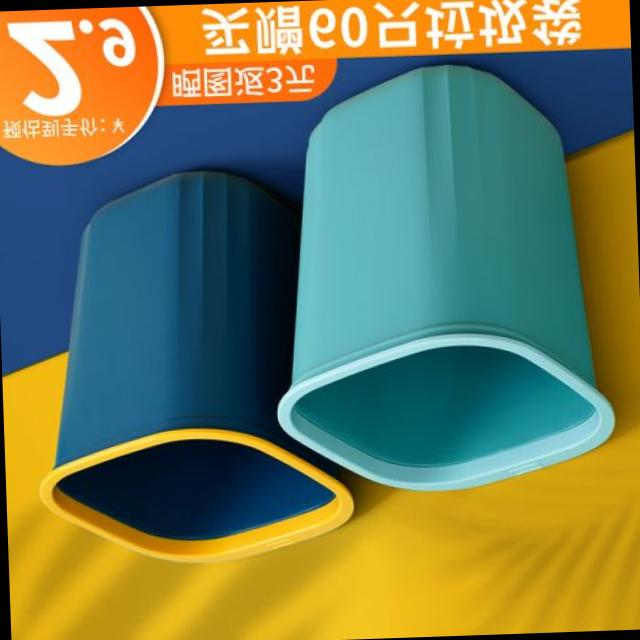dustbin: (263, 51, 623, 500), (23, 157, 364, 568)
